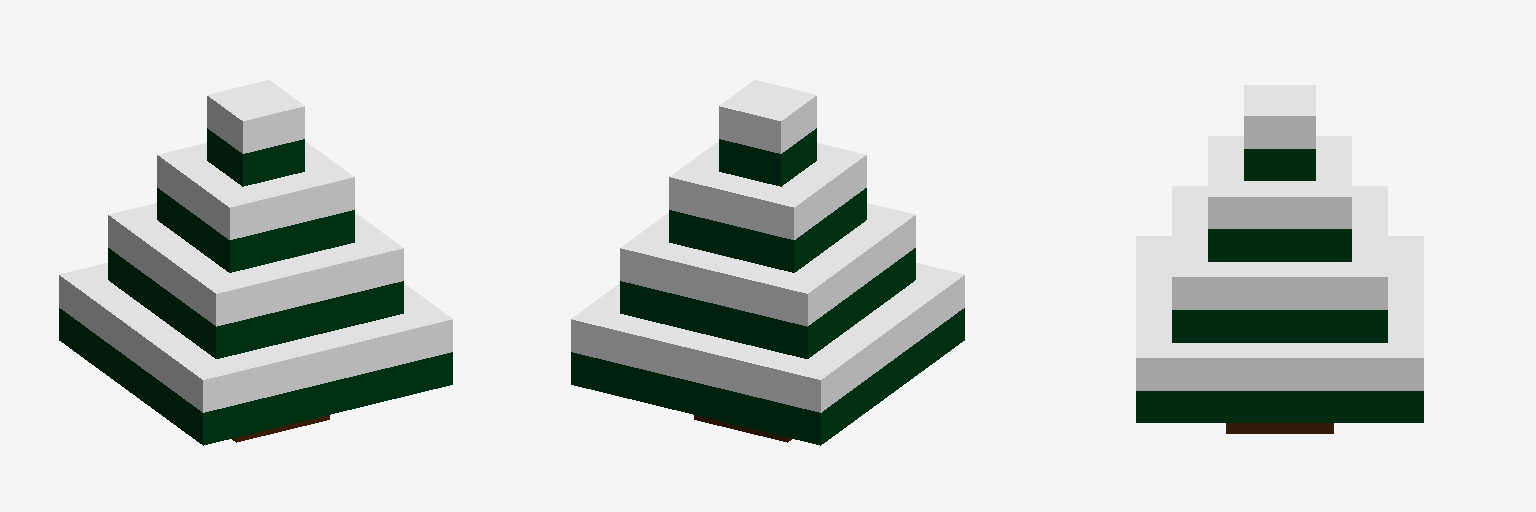
The picture shows the model from 3 angles: view 1: azimuth 30°, elevation 25°; view 2: azimuth 150°, elevation 25°; view 3: azimuth 270°, elevation 25°; orthographic projection.
Parts seen in each view (by area): view 1: object 1; view 2: object 1; view 3: object 1.
Boxes of the visible parts, x1,y1,x2,y2 form: object 1: [59, 80, 452, 445]; object 1: [571, 80, 964, 445]; object 1: [1136, 85, 1423, 433].
Size of the model in its own units: 1.6 by 1.9 by 1.6.
Materials: 1 (1 with a texture image).